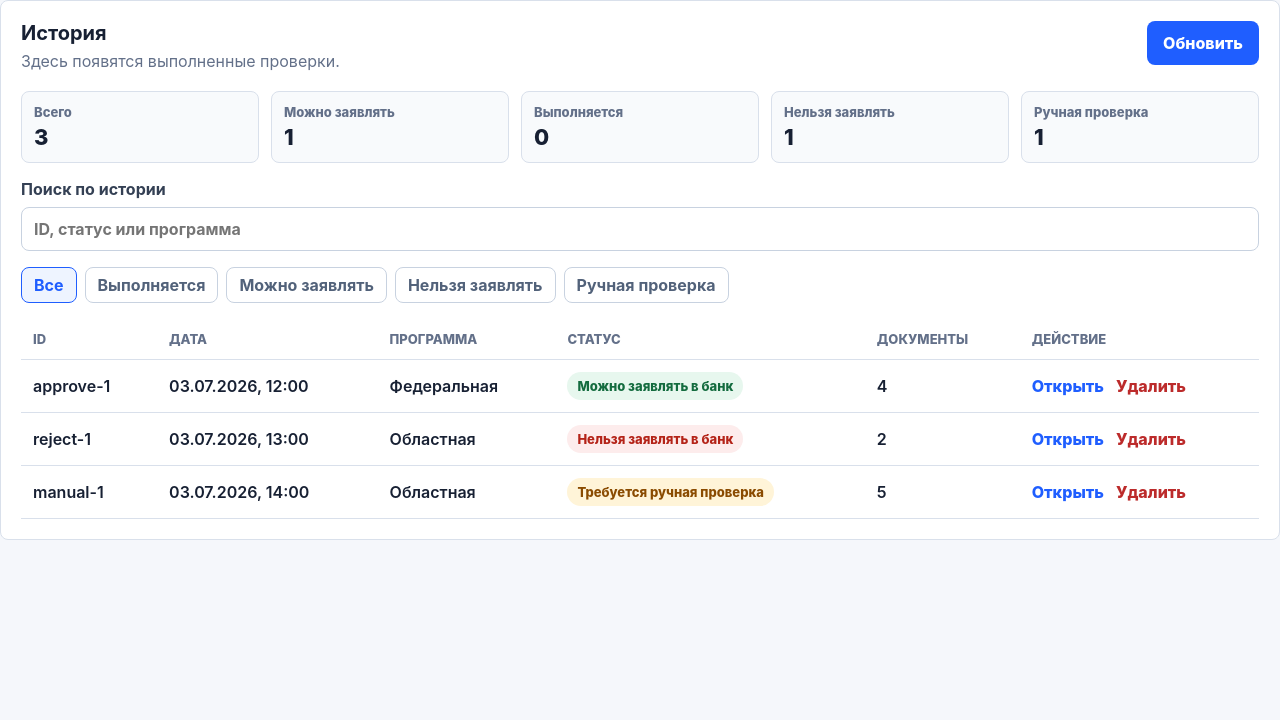
Test: HistoryTable › filters checks by search query and resets filters
Expected: the text "approve-1" is shown, left=21, top=360, right=157, bottom=412
Type "manual" into the search field labelled "Поиск по истории". click: (640, 229)
box: left=21, top=207, right=1259, bottom=251
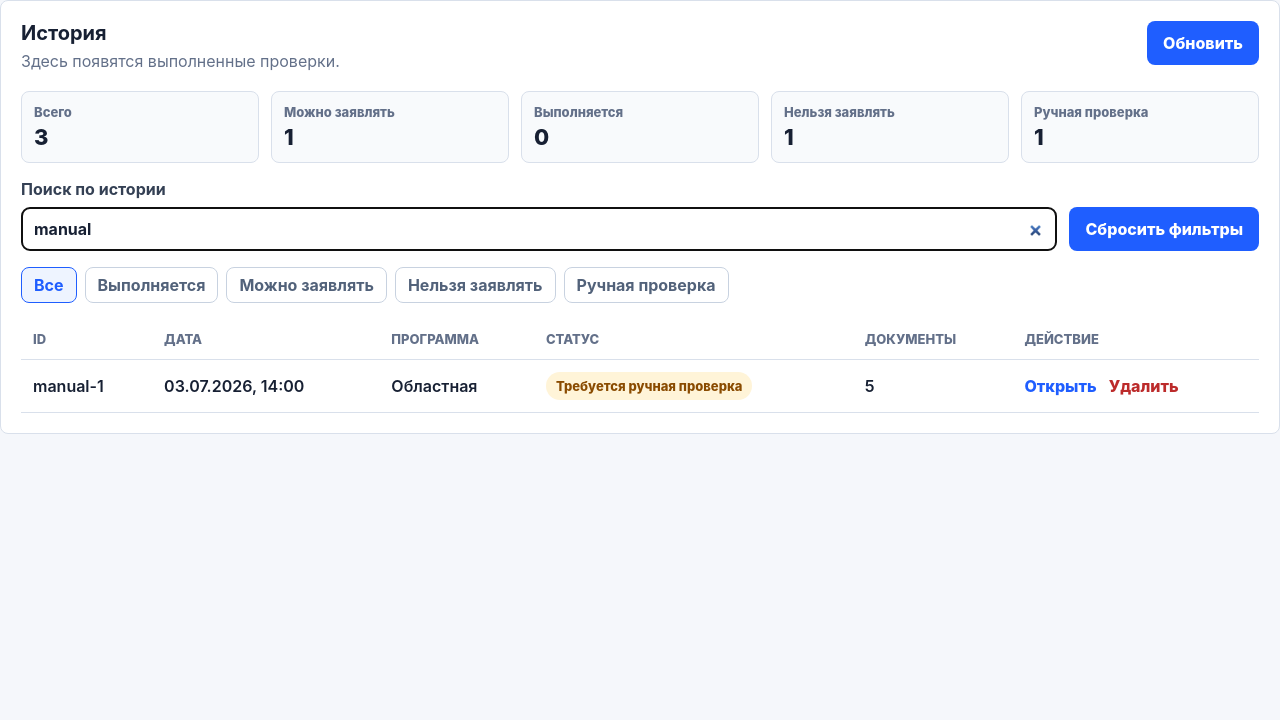
Expected: the text "manual-1" is shown, left=21, top=360, right=152, bottom=412
Now the text "approve-1" is gone
Now the text "reject-1" is gone
Click the button "Сбросить фильтры". click: (1164, 229)
box: left=1070, top=207, right=1259, bottom=251
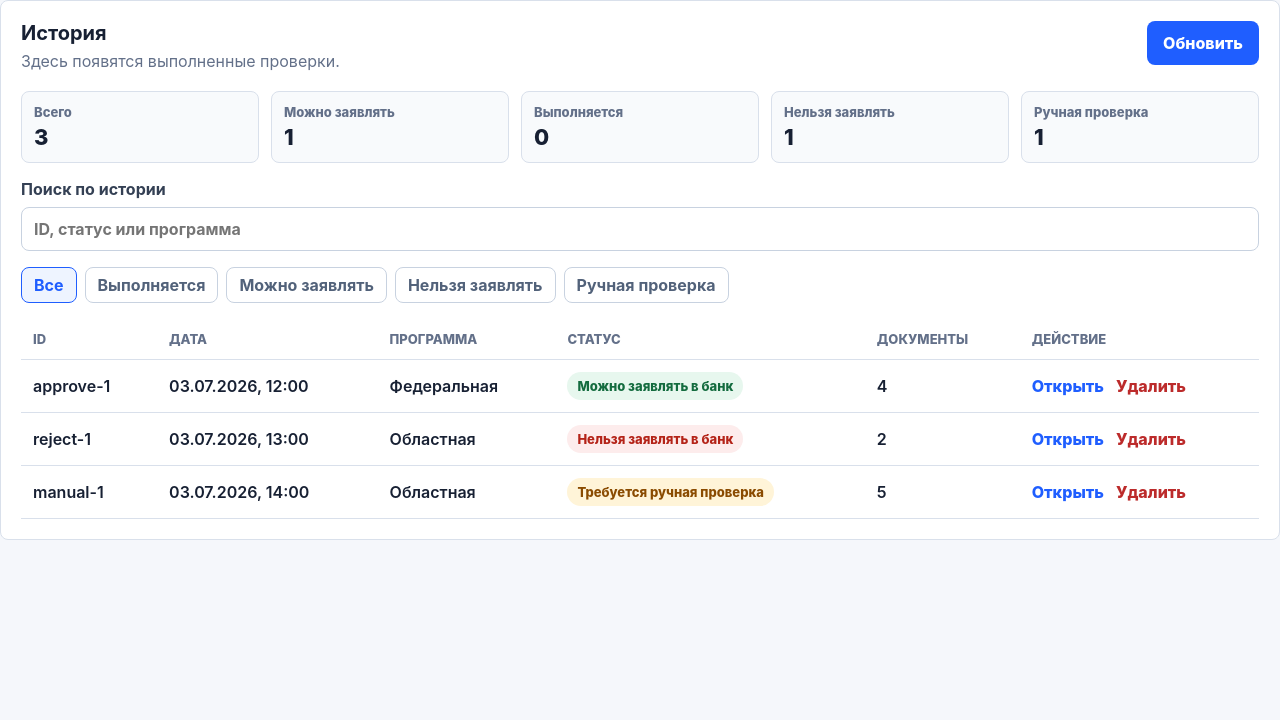
Expected: the text "manual-1" is shown, left=21, top=466, right=157, bottom=518
Now the text "approve-1" is shown, box left=21, top=360, right=157, bottom=412
Now the text "reject-1" is shown, box left=21, top=412, right=157, bottom=466
